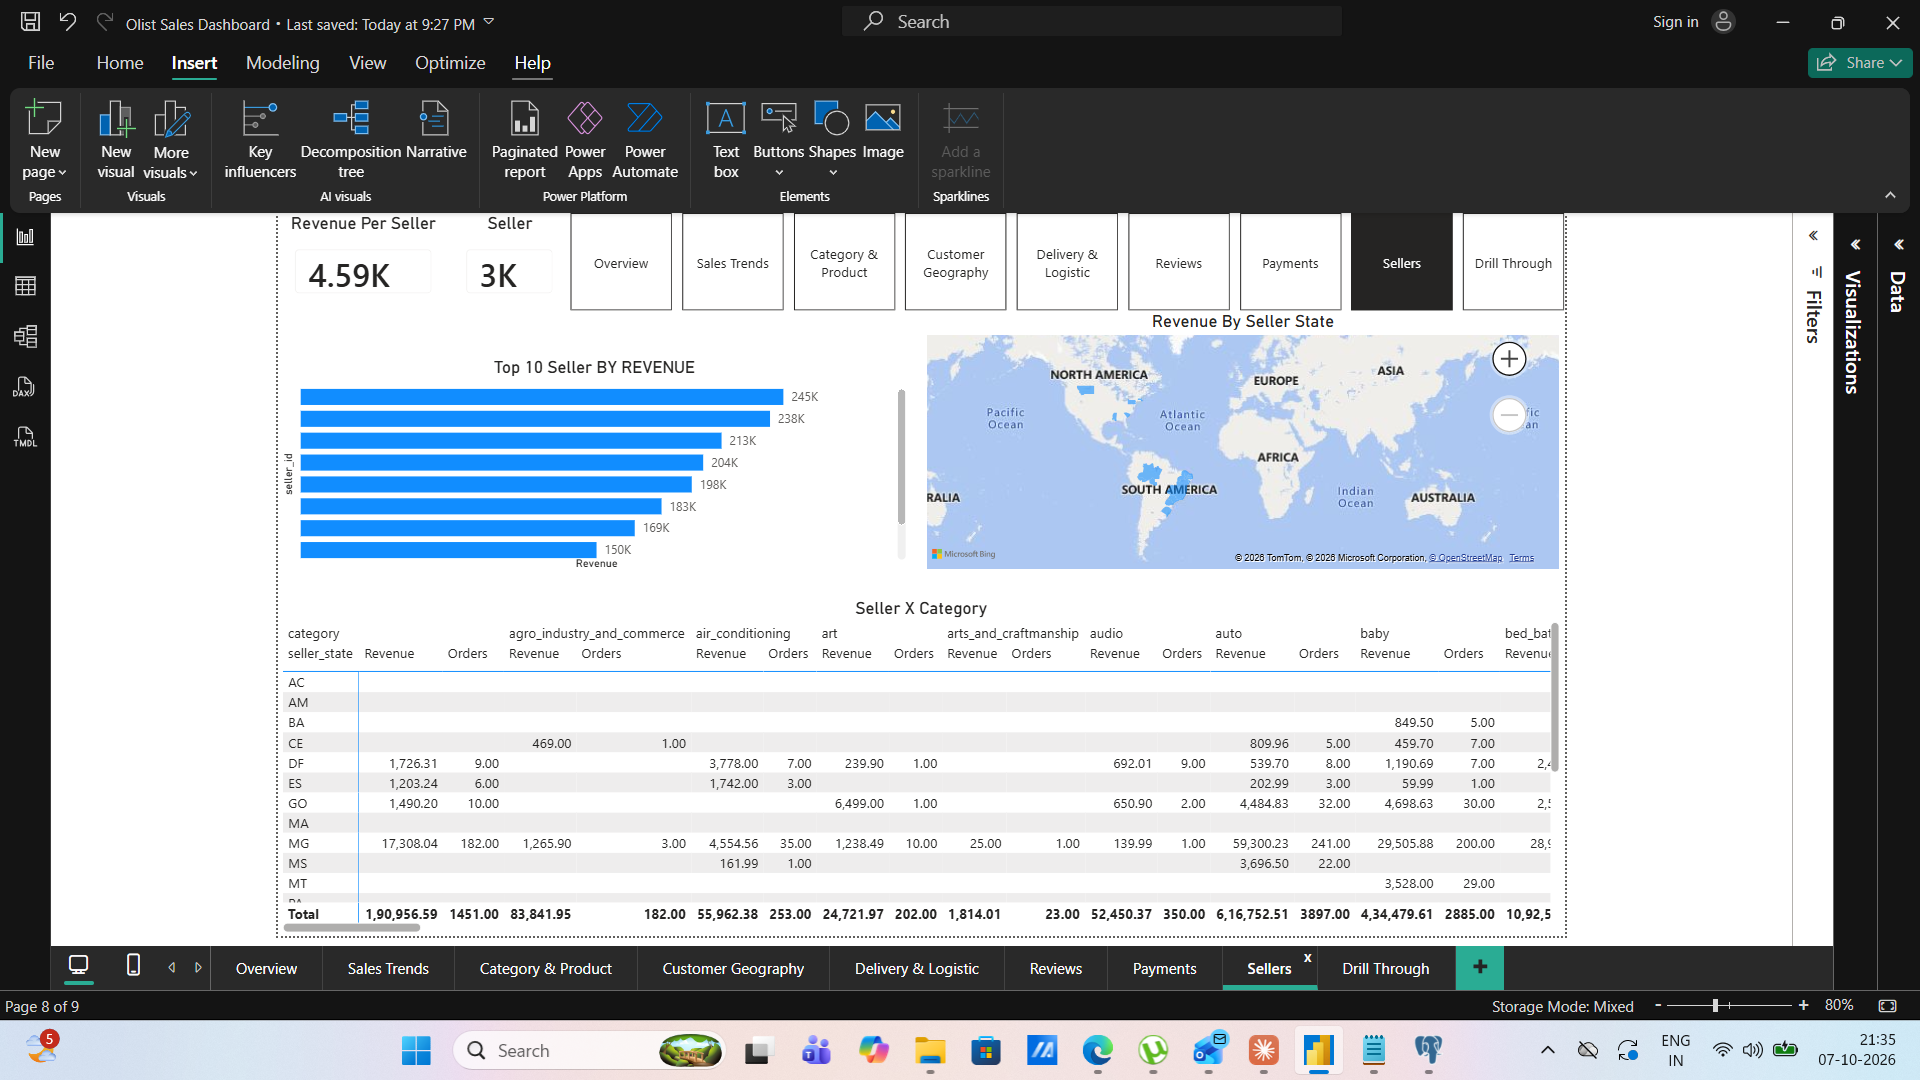

The page's visual inventory and layout, read from the dashboard file:
{"tool":"powerbi","page":{"name":"Sellers","canvas":[1280,720],"ordinal":7},"visuals":[{"type":"cardVisual","title":"Seller","fields":{"Data":["public bi_fact_sales.Sellers"]},"box":[170.2,0,120.8,97.4],"z":0},{"type":"cardVisual","title":"Revenue Per Seller","fields":{"Data":["public bi_fact_sales.Revenue per Seller"]},"box":[0,0,170.2,97.4],"z":1000},{"type":"filledMap","title":"Revenue By Seller State","fields":{"Category":["public bi_fact_sales.seller_state"]},"box":[640.8,97.4,639.5,262.1],"z":2000},{"type":"barChart","title":"Top 10 Seller BY REVENUE","fields":{"Y":["public bi_fact_sales.Revenue"],"Category":["public bi_fact_sales.seller_id"]},"box":[0,142.7,629.8,216.8],"z":3000},{"type":"pivotTable","title":"Seller X Category ","fields":{"Values":["public bi_fact_sales.Revenue","public bi_fact_sales.Orders"],"Rows":["public bi_fact_sales.seller_state"],"Columns":["public bi_fact_sales.category"]},"box":[0,382.8,1280.3,337.6],"z":4000},{"type":"pageNavigator","box":[290.9,0,989.4,97.4],"z":5000}]}

Visuals, with their boxes on the page's 1280x720 design canvas (x1, y1, x2, y2). These are canvas units, not pixel positions in the 1920x1080 screenshot, which may show the page scaled, cropped or inside an application window:
"Seller" cardVisual: box=[170, 0, 291, 97]
"Revenue Per Seller" cardVisual: box=[0, 0, 170, 97]
"Revenue By Seller State" filledMap: box=[641, 97, 1280, 360]
"Top 10 Seller BY REVENUE" barChart: box=[0, 143, 630, 360]
"Seller X Category " pivotTable: box=[0, 383, 1280, 720]
pageNavigator: box=[291, 0, 1280, 97]
